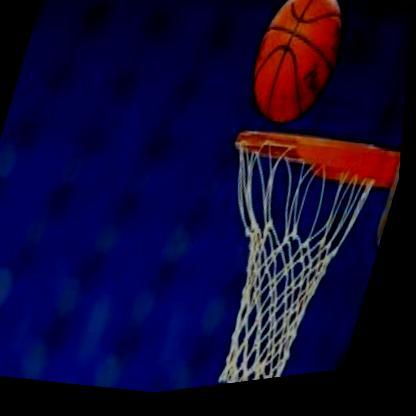basketball: (242, 0, 357, 139)
rim: (170, 120, 391, 397)
